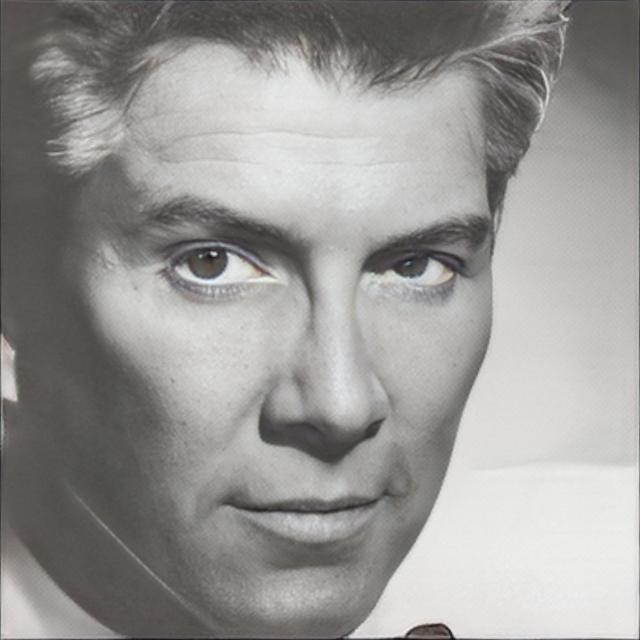content: (13, 36, 495, 637)
